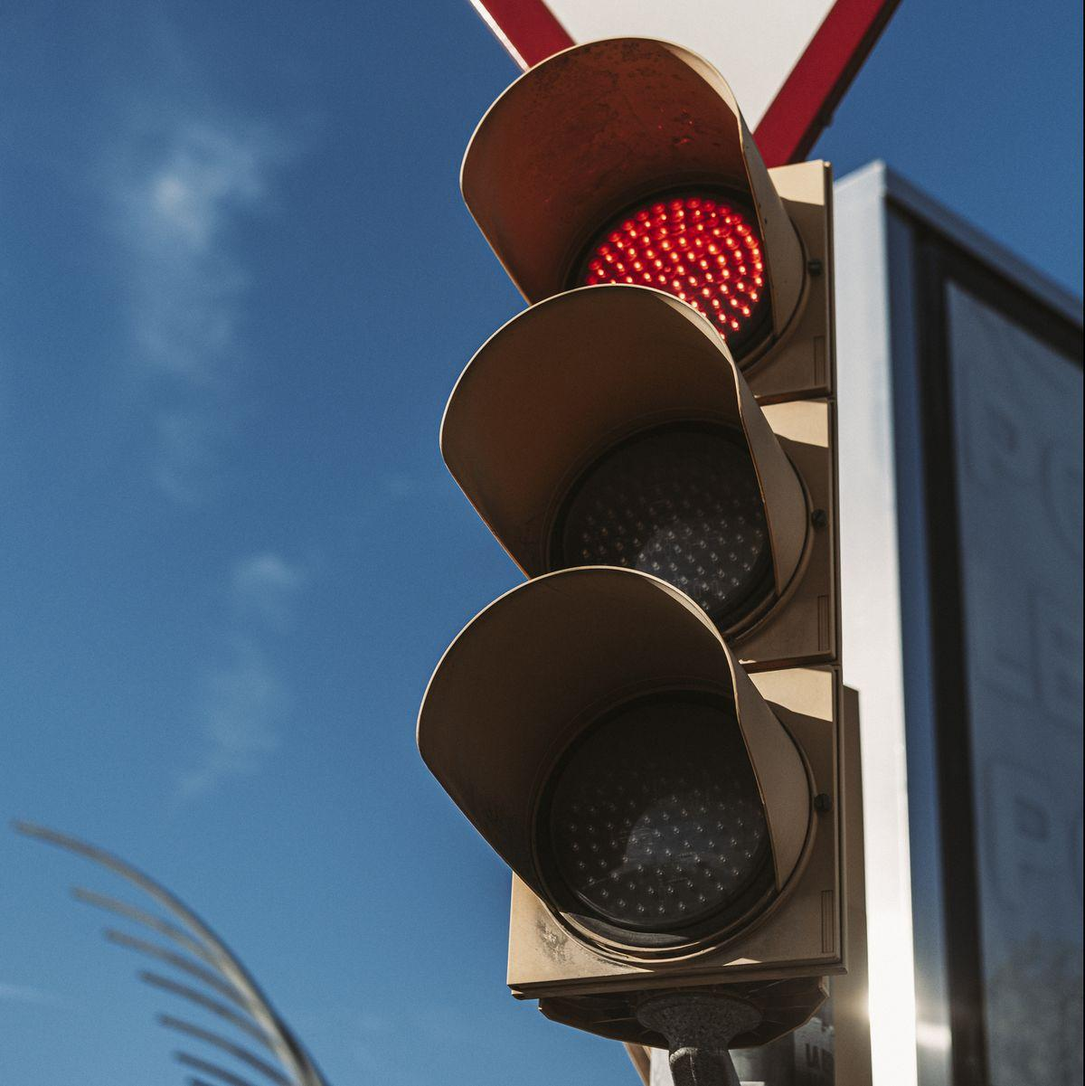red: (401, 33, 901, 1020)
